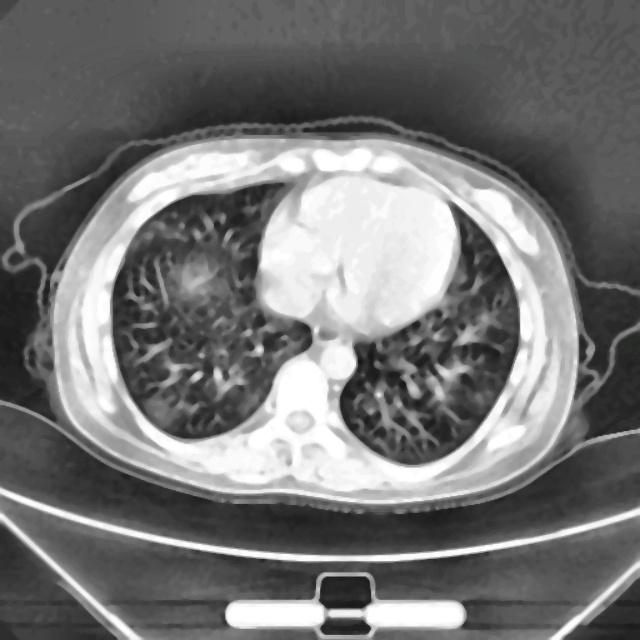covid: (23, 121, 585, 512)
